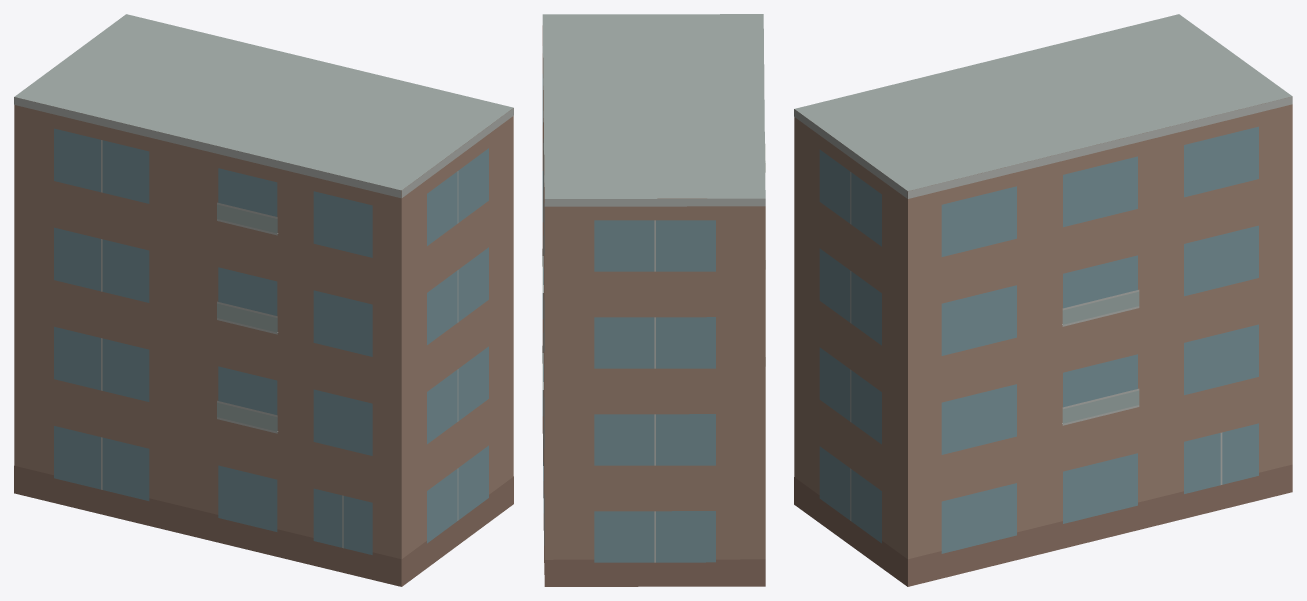
Rendered from residential-8e62c2a5-a710-463b-8758-e55da7e595e5.glb.
3 renders of one model, left to right at view 1: azimuth 30°, elevation 25°; view 2: azimuth 150°, elevation 25°; view 3: azimuth 270°, elevation 25°, orthographic. The views are drawn at different scales.
Parts seen in each view (by area): view 1: residential-8e62c2a5-a710-463b-8758-e55da7e595e5.tmp; view 2: residential-8e62c2a5-a710-463b-8758-e55da7e595e5.tmp; view 3: residential-8e62c2a5-a710-463b-8758-e55da7e595e5.tmp.
Part boxes in pixels (<box>): residential-8e62c2a5-a710-463b-8758-e55da7e595e5.tmp: <box>14,14,513,586</box>; residential-8e62c2a5-a710-463b-8758-e55da7e595e5.tmp: <box>542,14,765,586</box>; residential-8e62c2a5-a710-463b-8758-e55da7e595e5.tmp: <box>794,14,1292,586</box>.
Bounding box in the file's own units: 11.72 × 12.2 × 13.94.
